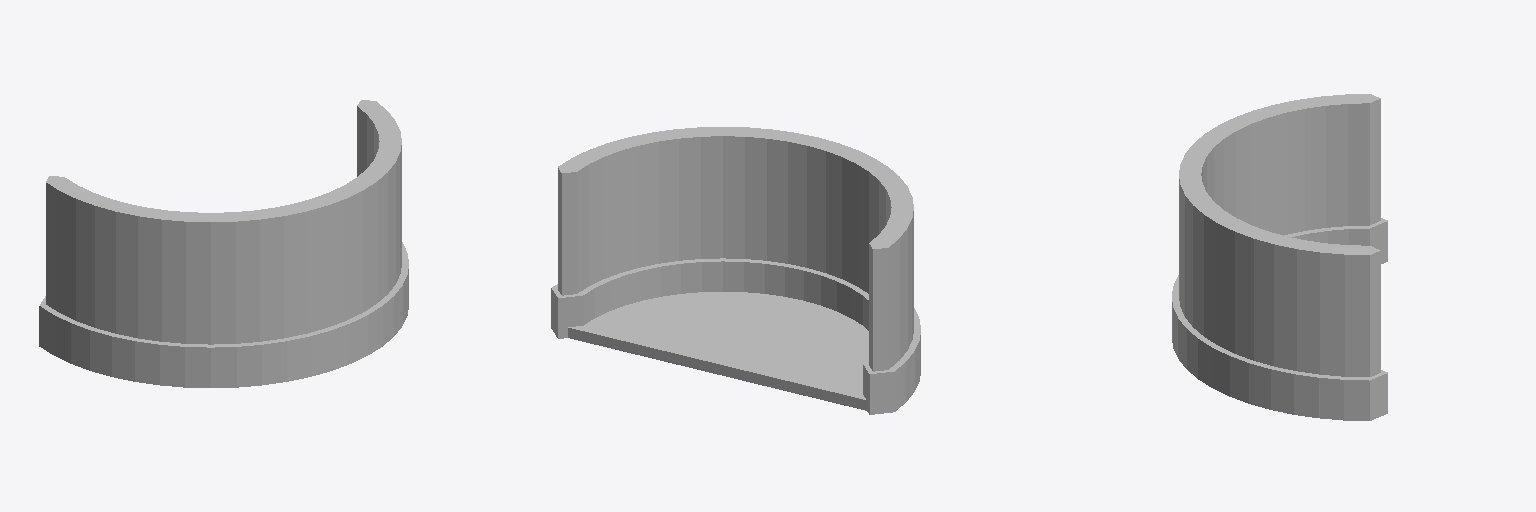
File: hallway_end_03.obj
3 renders of one model, left to right at view 1: azimuth 30°, elevation 25°; view 2: azimuth 150°, elevation 25°; view 3: azimuth 270°, elevation 25°, orthographic.
Visible parts, largest first — view 1: corner_03_86, corner_03_85; view 2: corner_03_85, corner_03_86, floor_08_84; view 3: corner_03_85, corner_03_86.
Boxes of the visible parts, x1=… form: corner_03_86: x1=39, y1=176, x2=312, y2=387; corner_03_85: x1=291, y1=100, x2=408, y2=376; corner_03_85: x1=551, y1=127, x2=818, y2=338; corner_03_86: x1=804, y1=138, x2=920, y2=414; floor_08_84: x1=568, y1=292, x2=868, y2=410; corner_03_85: x1=1172, y1=170, x2=1387, y2=420; corner_03_86: x1=1172, y1=94, x2=1387, y2=299.
Bounding box in the file's own units: 2.21 × 1 × 1.21.